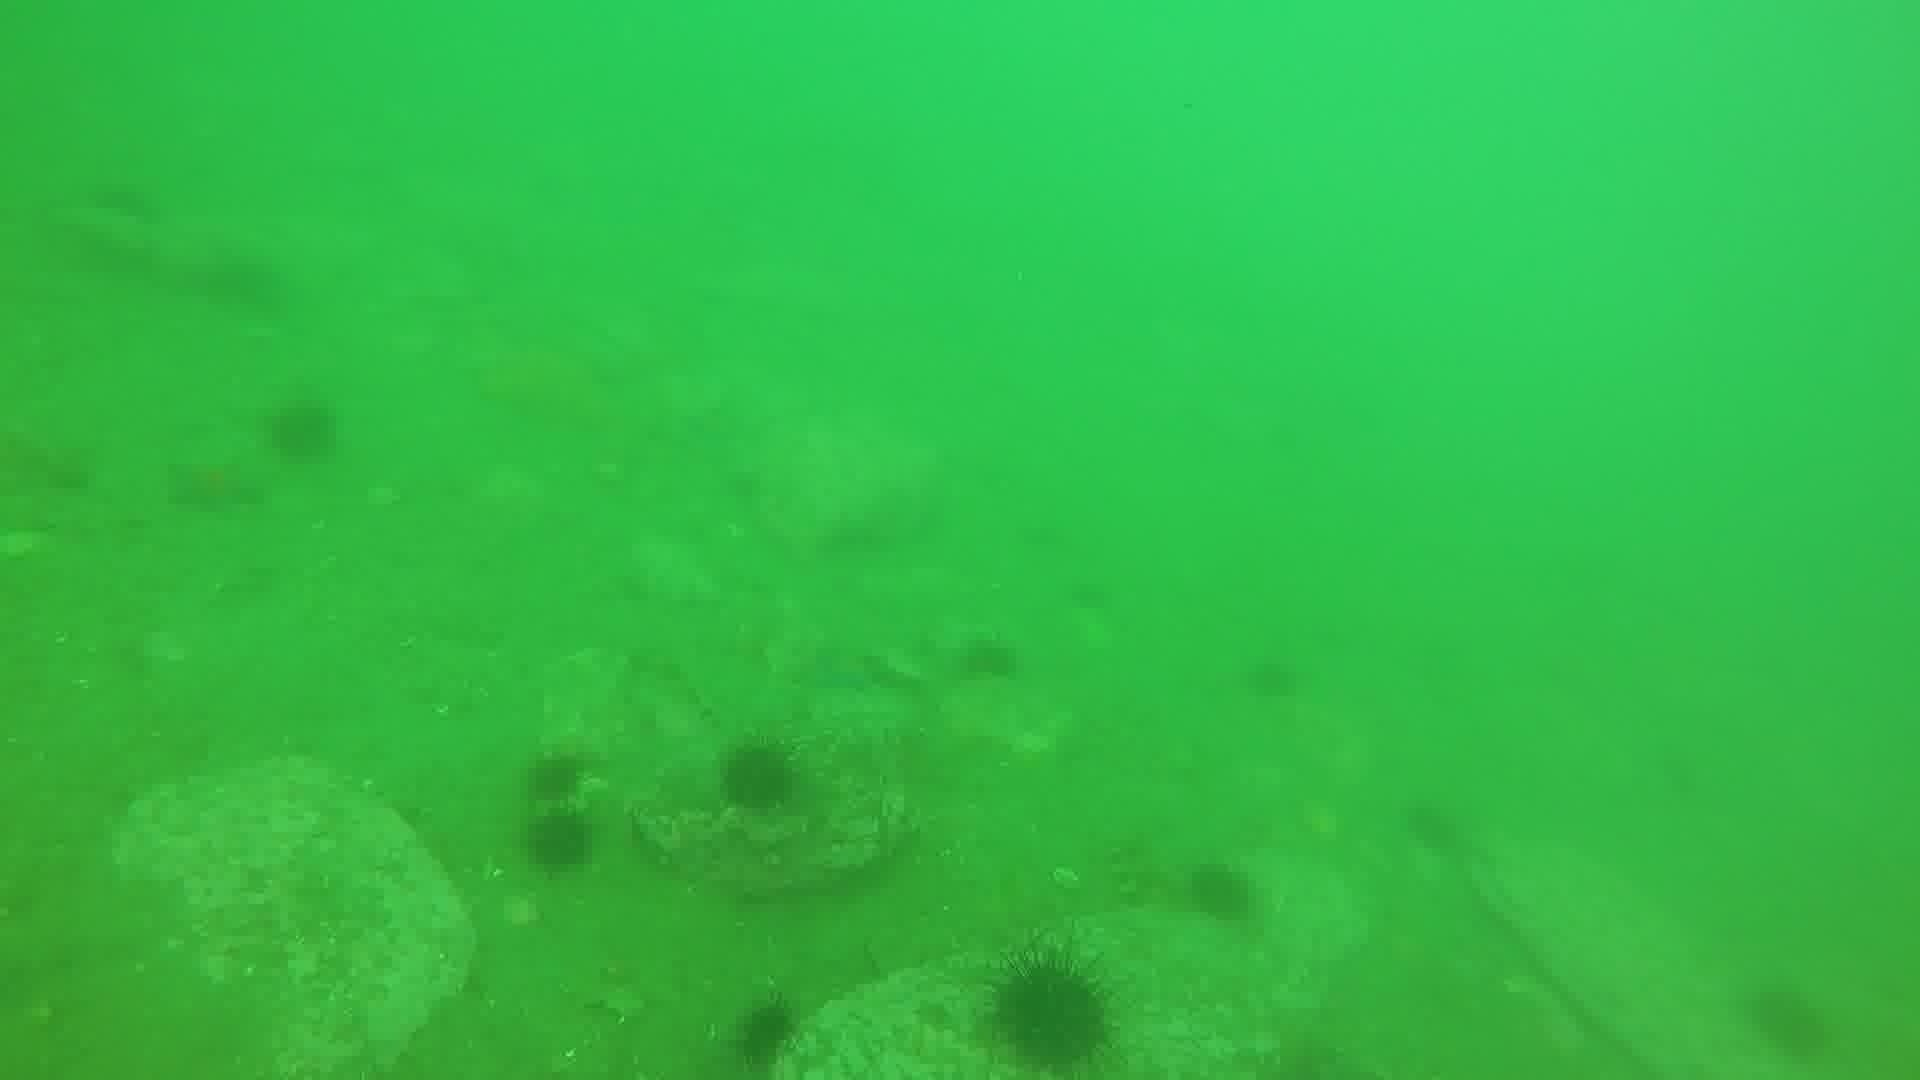echinus: (982, 947, 1121, 1072), (1743, 978, 1834, 1062), (713, 737, 802, 818), (725, 996, 804, 1069), (262, 394, 343, 465), (521, 804, 599, 877), (1182, 858, 1261, 926), (1399, 795, 1469, 858), (520, 746, 591, 807), (953, 632, 1025, 687), (1240, 651, 1307, 705)
holothurian: (1101, 829, 1168, 914)
starfish: (162, 450, 268, 518), (794, 636, 893, 699)
